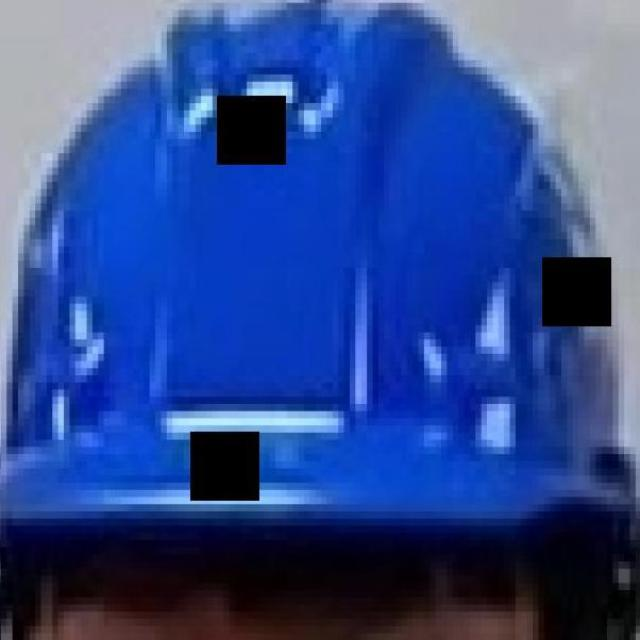blue helmet: (1, 1, 640, 563)
